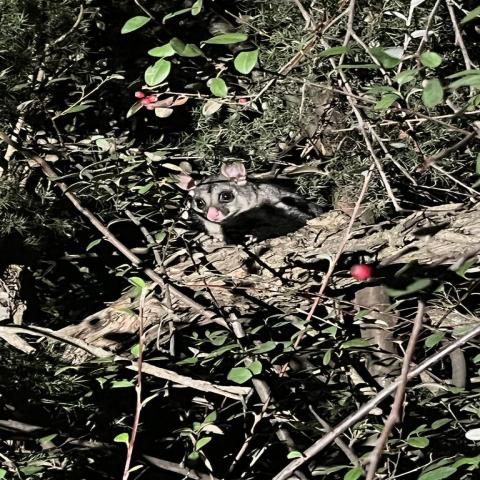small_animal: (170, 162, 324, 246)
